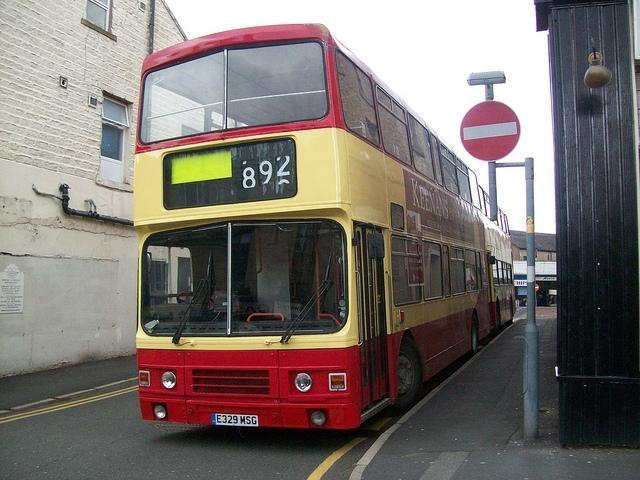bus: (130, 24, 518, 432)
